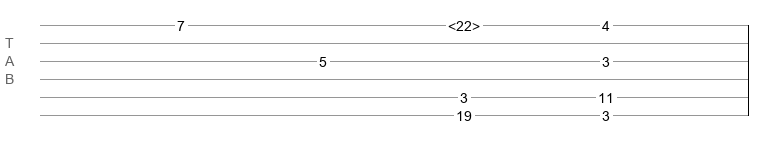11: (598, 90, 614, 100)
19: (456, 108, 472, 118)
3: (460, 90, 468, 100), (602, 54, 610, 64), (602, 108, 610, 118)
4: (602, 18, 610, 28)
5: (319, 54, 327, 64)
7: (177, 18, 185, 28)
harmonic: (448, 18, 480, 28)
